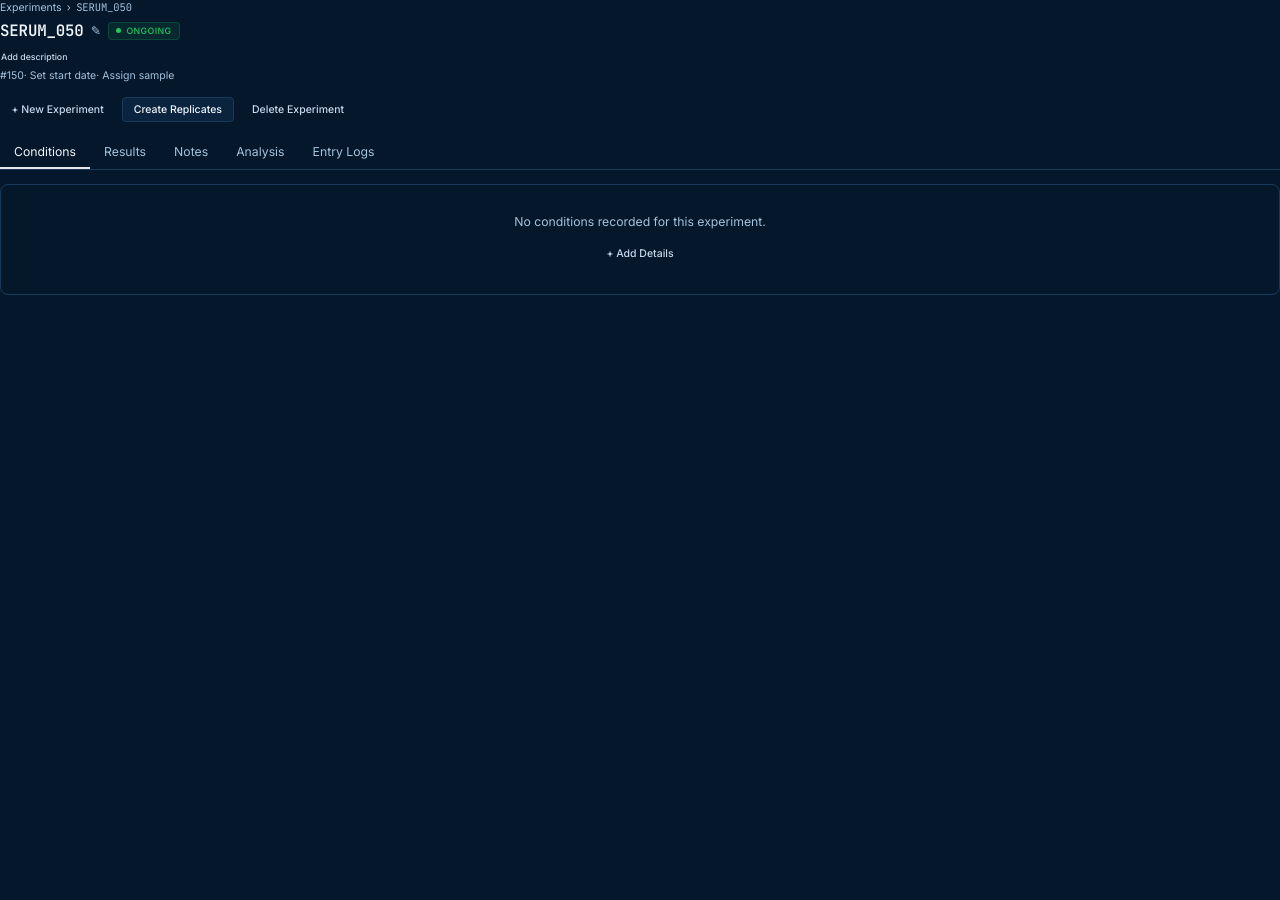
experiment deletion from the detail page › opens the confirmation dialog rather than deleting immediately
Click the button "Delete Experiment" at (298, 110), box [240,97,356,122]
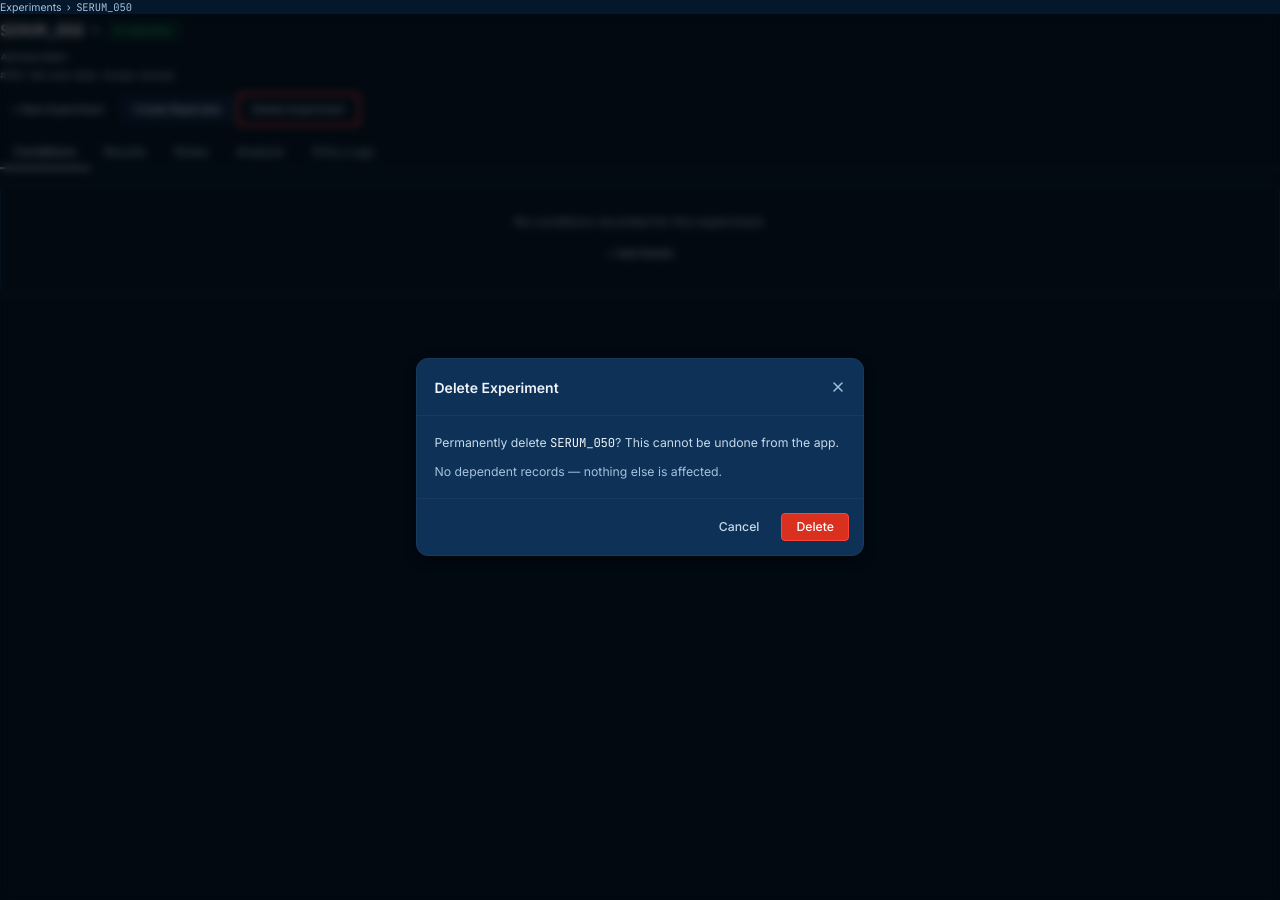
Result: the text "Permanently delete" is shown at [434,435,547,450]
